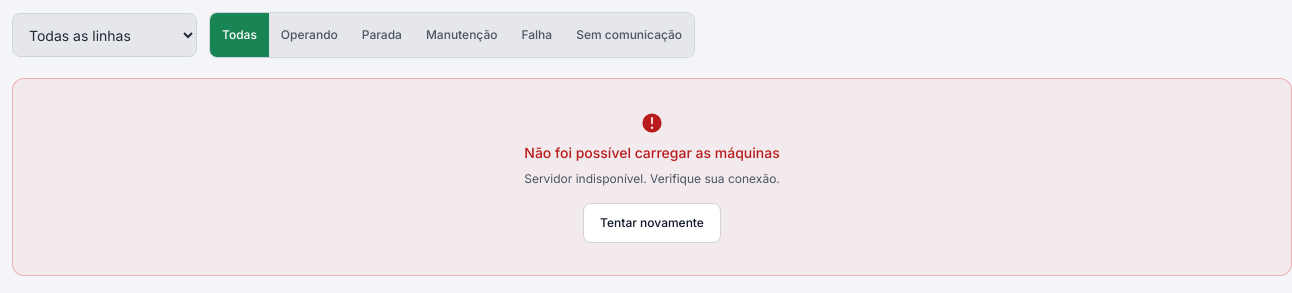
Test: MachinesPage › shows an explicit error state with retry when the API fails
Check: the message shows "Não foi possível carregar as máquinas", box [524, 144, 780, 161]
Check: the message shows "Servidor indisponível", box [524, 171, 780, 186]
What coordinates should you click on to do the following:
click the button "Tentar novamente"
I would click on:
 (652, 223)
Its box is [583, 203, 721, 243].
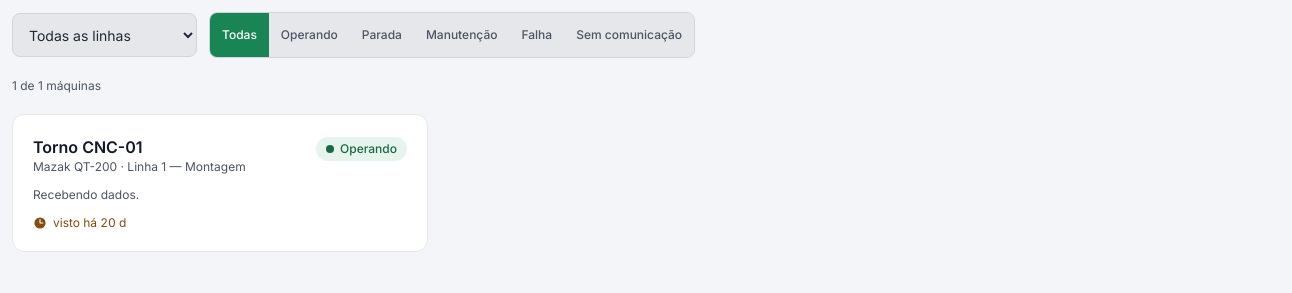
Check: the text "Torno CNC-01" is shown, box [33, 137, 143, 157]
